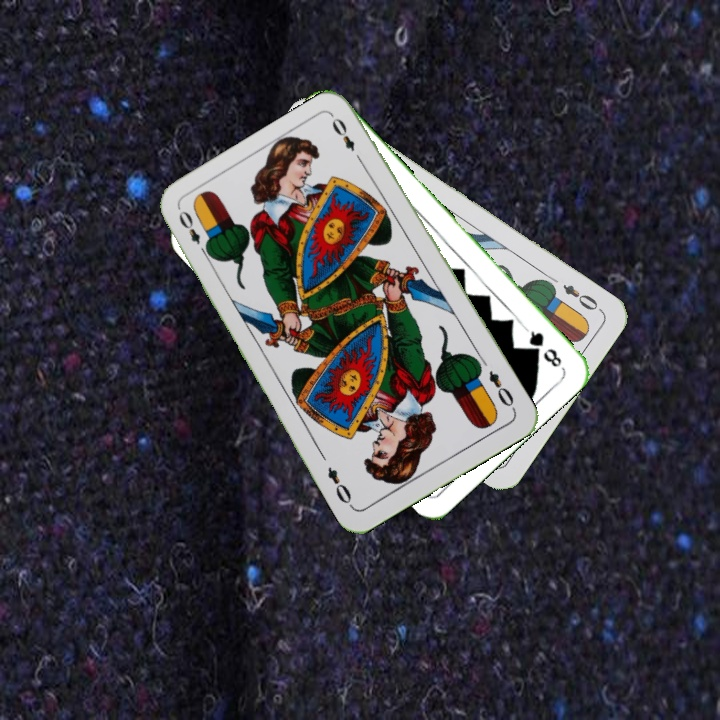EO: (174, 206, 212, 260), (558, 280, 605, 314), (484, 366, 518, 413)
G8: (521, 324, 565, 370)
